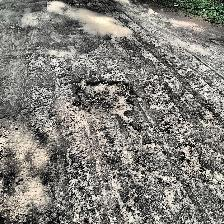pothole: (70, 78, 136, 120), (178, 145, 202, 171)
